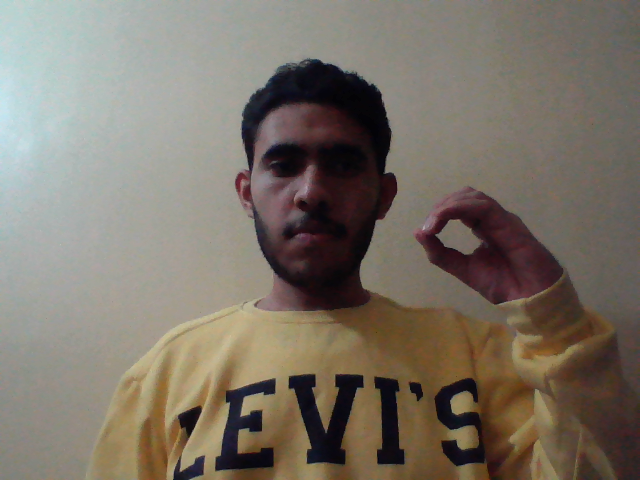O: (407, 178, 575, 323)
